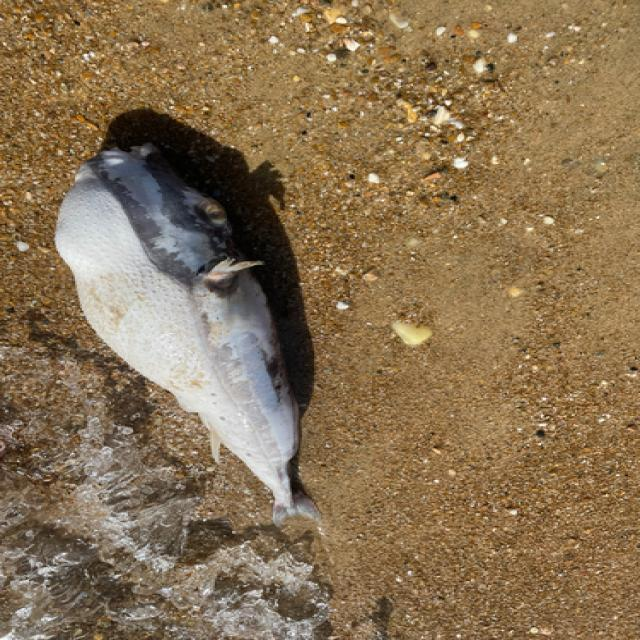Balik: (57, 144, 317, 524)
